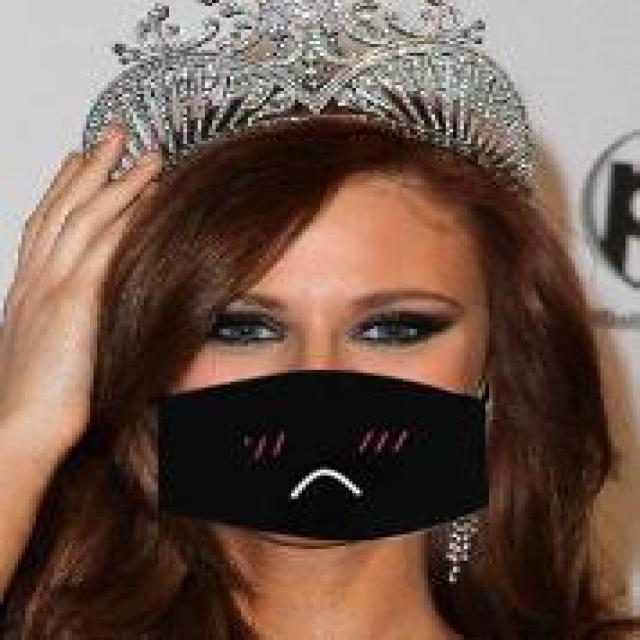mask: (61, 50, 572, 587)
